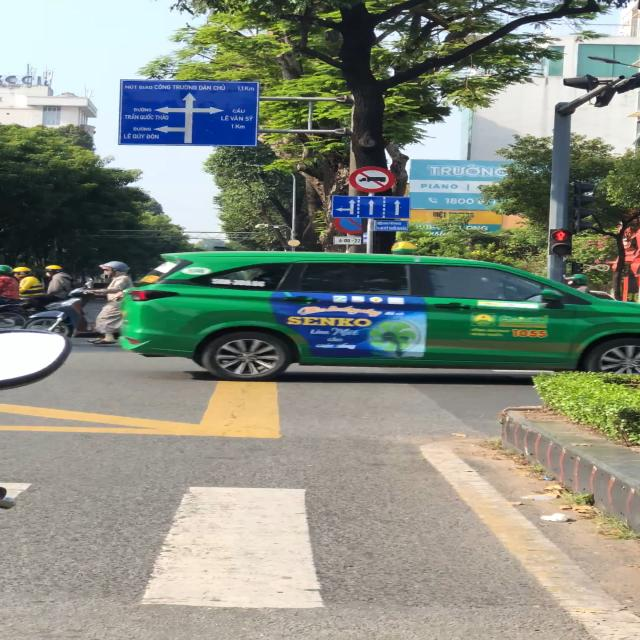Bien bao cam xe so-mi ro-mooc: (348, 165, 397, 194)
